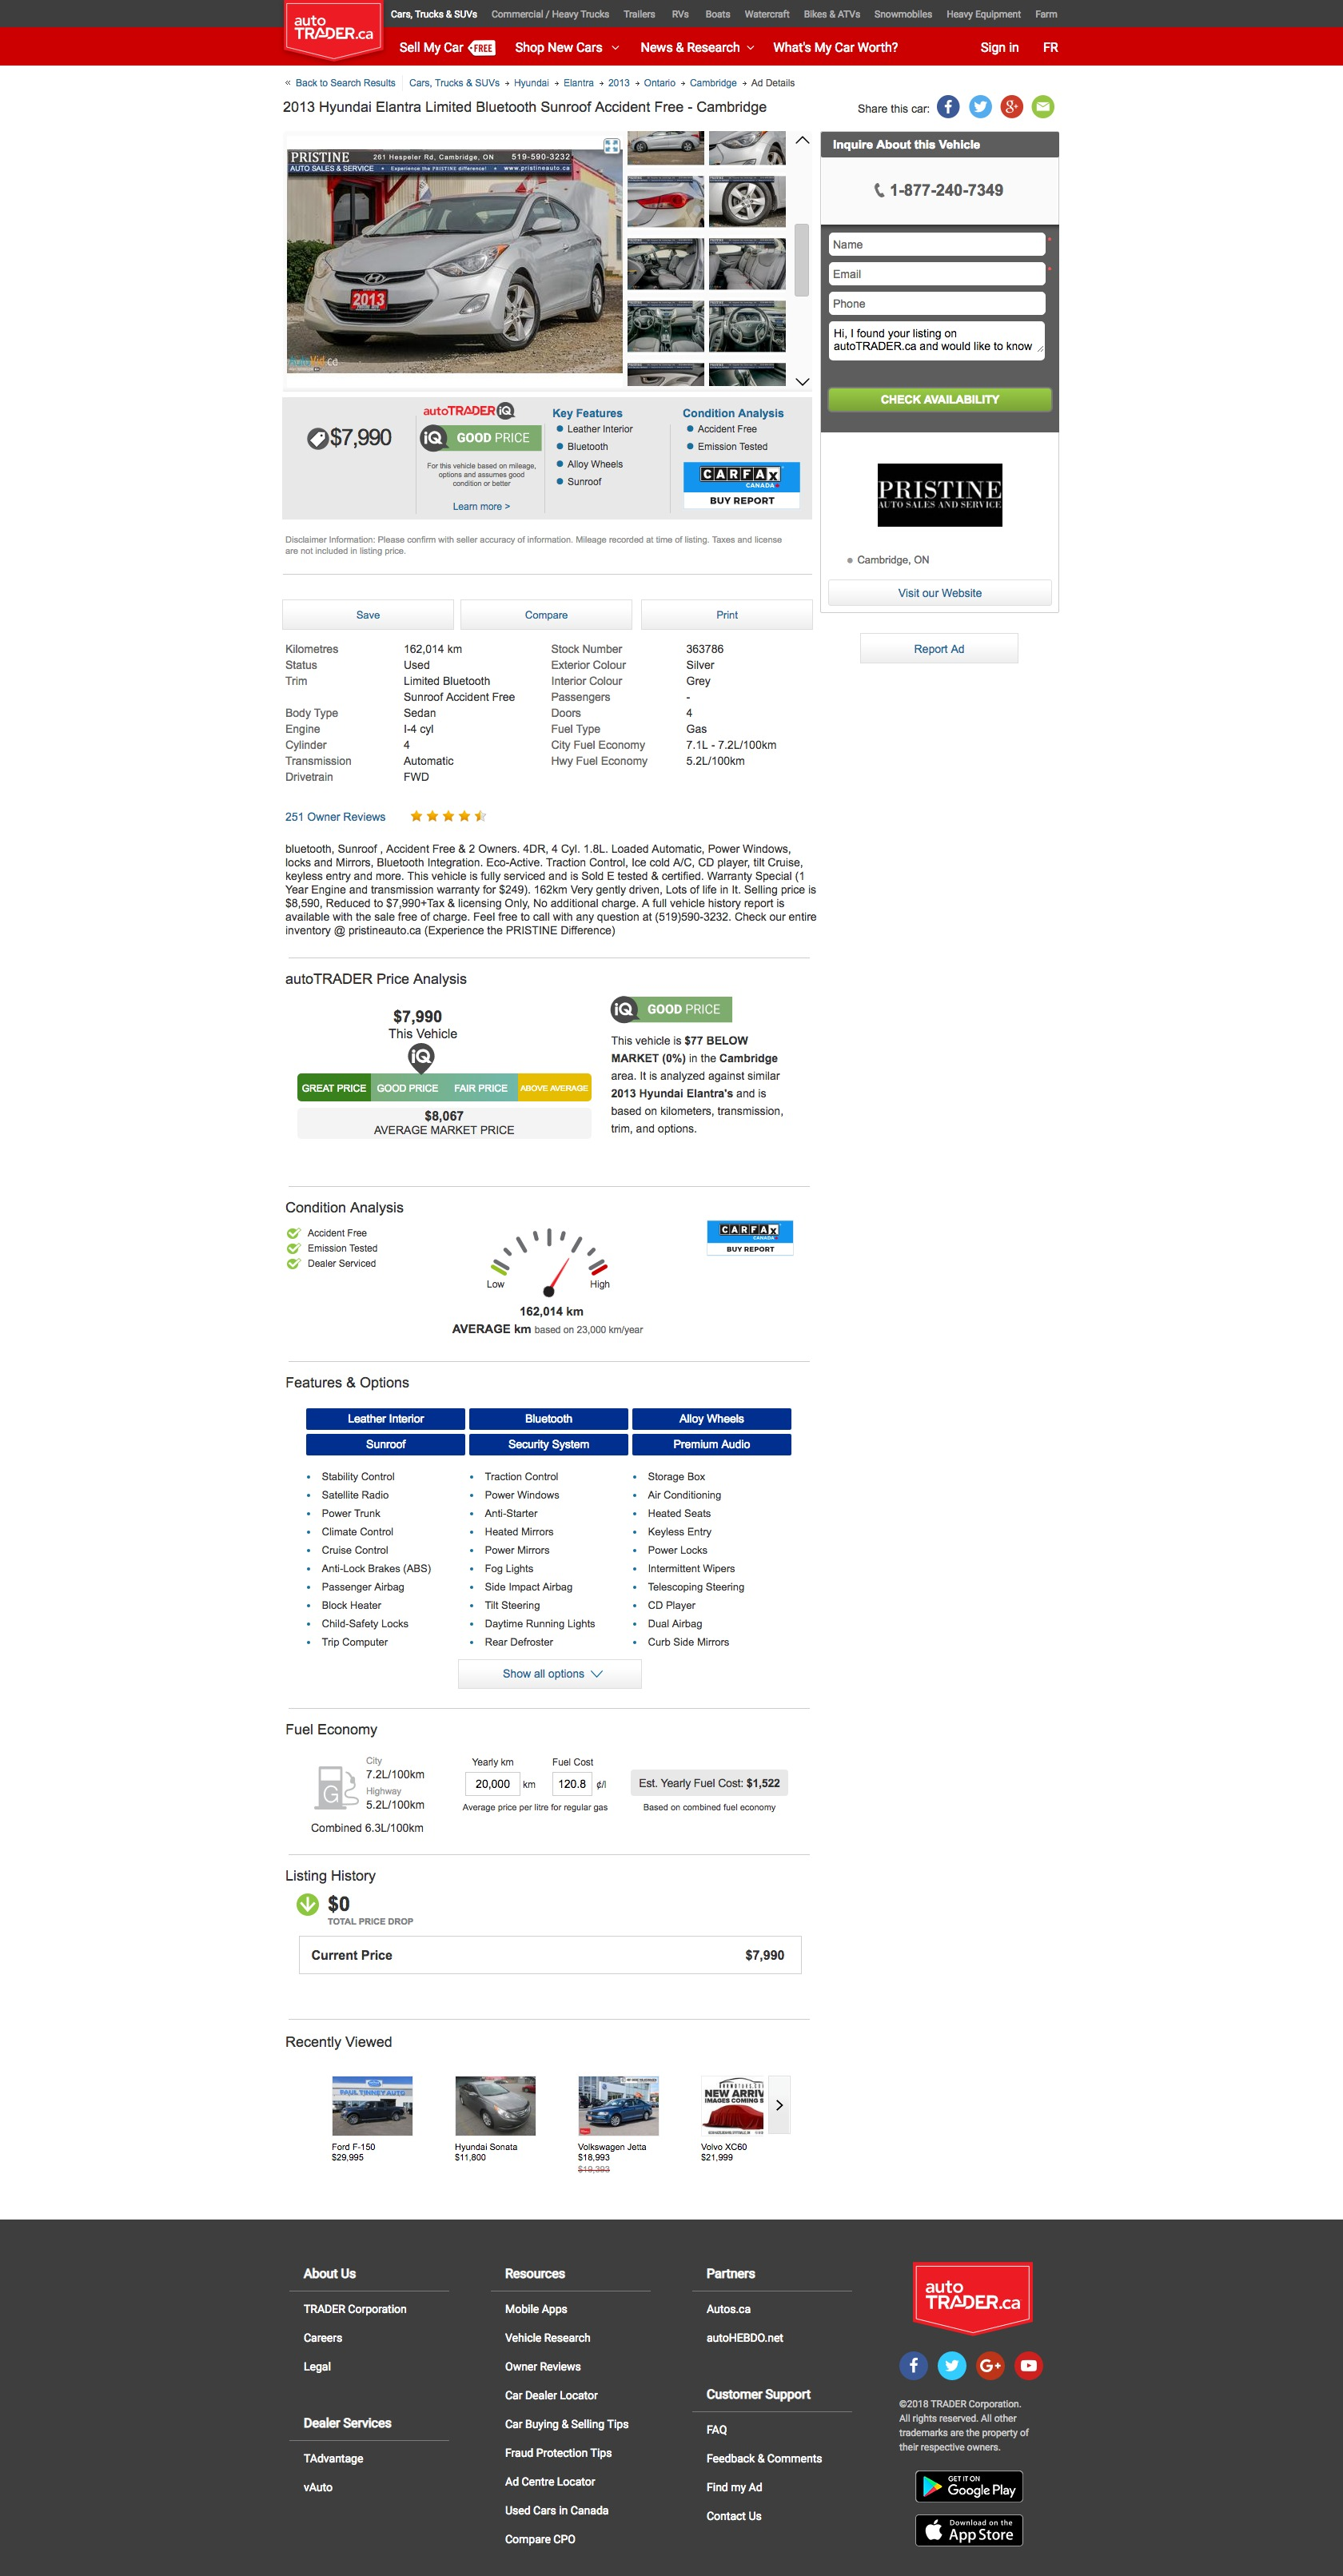car: (796, 378, 811, 387)
